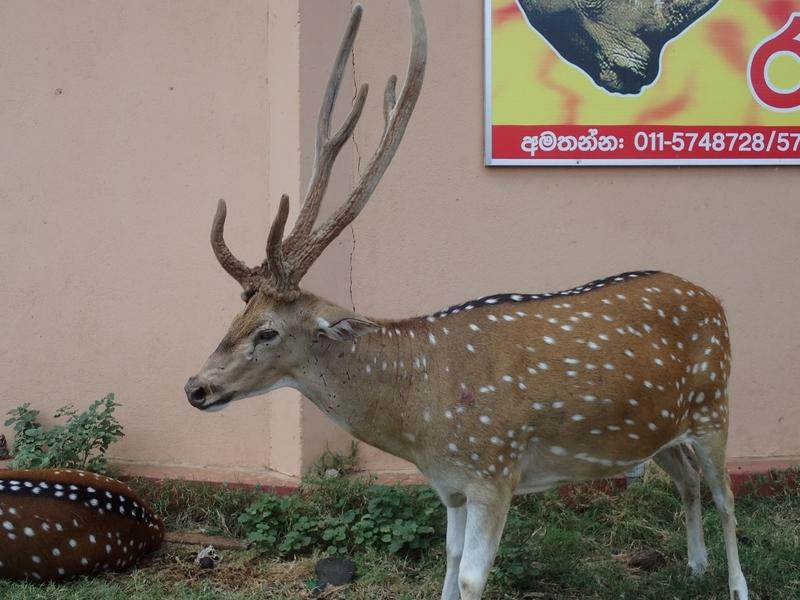Deer: (184, 0, 747, 599)
